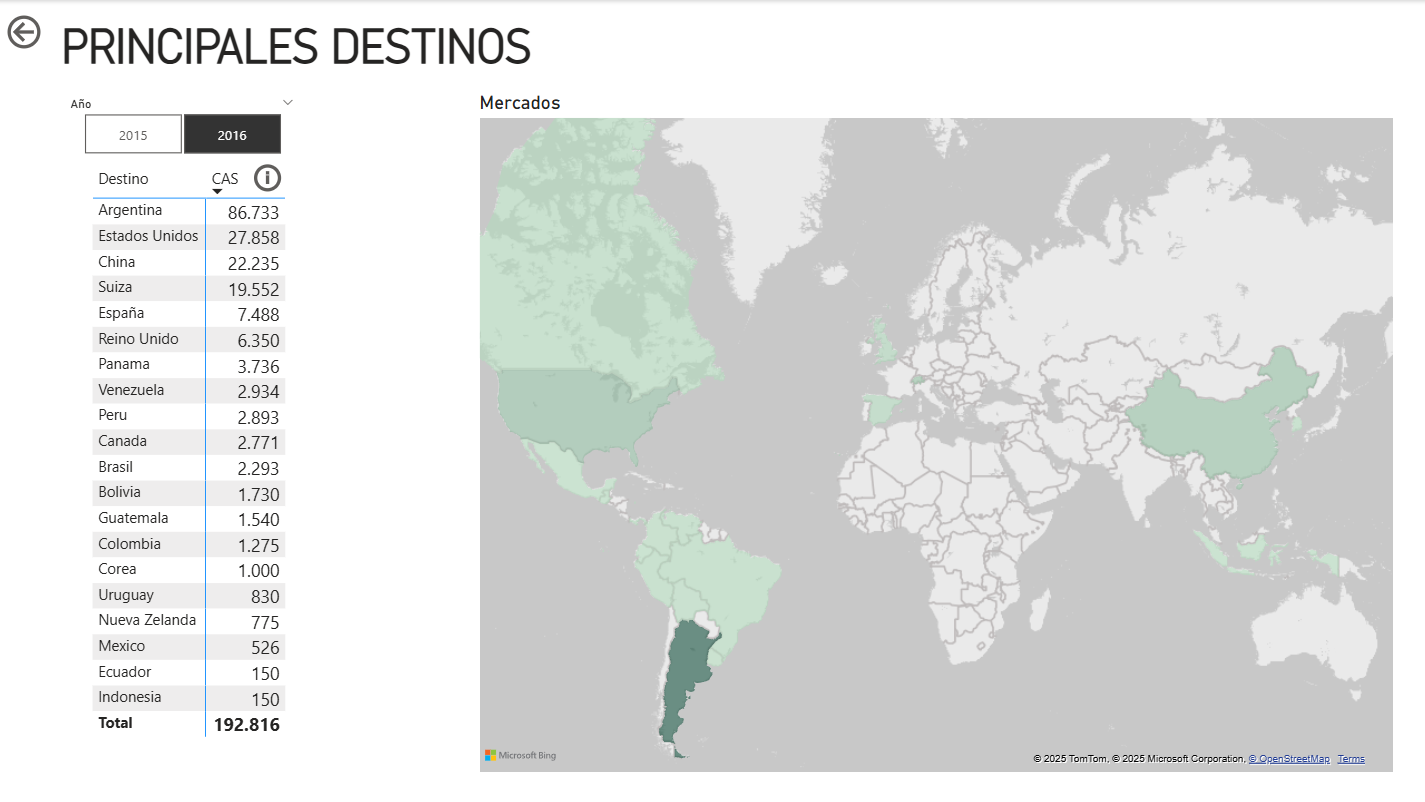

What the dashboard file says about the page in this screenshot:
{"tool":"powerbi","page":{"name":"VENTAS","canvas":[1280,720],"ordinal":3},"visuals":[{"type":"filledMap","title":"Mercados","fields":{"Category":["Reporte_Produccion_F.Destino"]},"box":[425.2,81.6,829.9,615.6],"z":0},{"type":"pivotTable","fields":{"Rows":["Reporte_Produccion_F.Destino"],"Values":["DAX.CAS"]},"box":[78.1,145.4,225.3,537.8],"z":1000},{"type":"slicer","fields":{"Values":["Tabla_Calendario_d.Año"]},"box":[49.9,81.6,225.6,63.5],"z":2000},{"type":"textbox","box":[49.9,11.3,464.8,73.7],"z":3000},{"type":"group","id":"g1","title":"Grupo 1","box":[223.1,140.1,33.3,39.5],"z":4000},{"type":"actionButton","box":[1.8,9,41.3,39.5],"z":5000},{"type":"actionButton","box":[223.1,140.1,33.3,39.5],"z":8000,"group":"g1"},{"type":"card","fields":{"Values":["DAX.Blank"]},"box":[223.1,143.5,33.3,32],"z":9500,"group":"g1"}]}

Visuals, with their boxes in screenshot pixels (x1, y1, x2, y2), scaled from the page's 1280x720 canvas onto the 1425x802 screenshot:
"Mercados" filledMap: [473,91,1397,777]
pivotTable - Reporte_Produccion_F.Destino x DAX.CAS: [87,162,338,761]
slicer - Tabla_Calendario_d.Año: [56,91,307,162]
textbox: [56,13,573,95]
"Grupo 1" group: [248,156,285,200]
actionButton: [2,10,48,54]
actionButton: [248,156,285,200]
card - DAX.Blank: [248,160,285,195]
